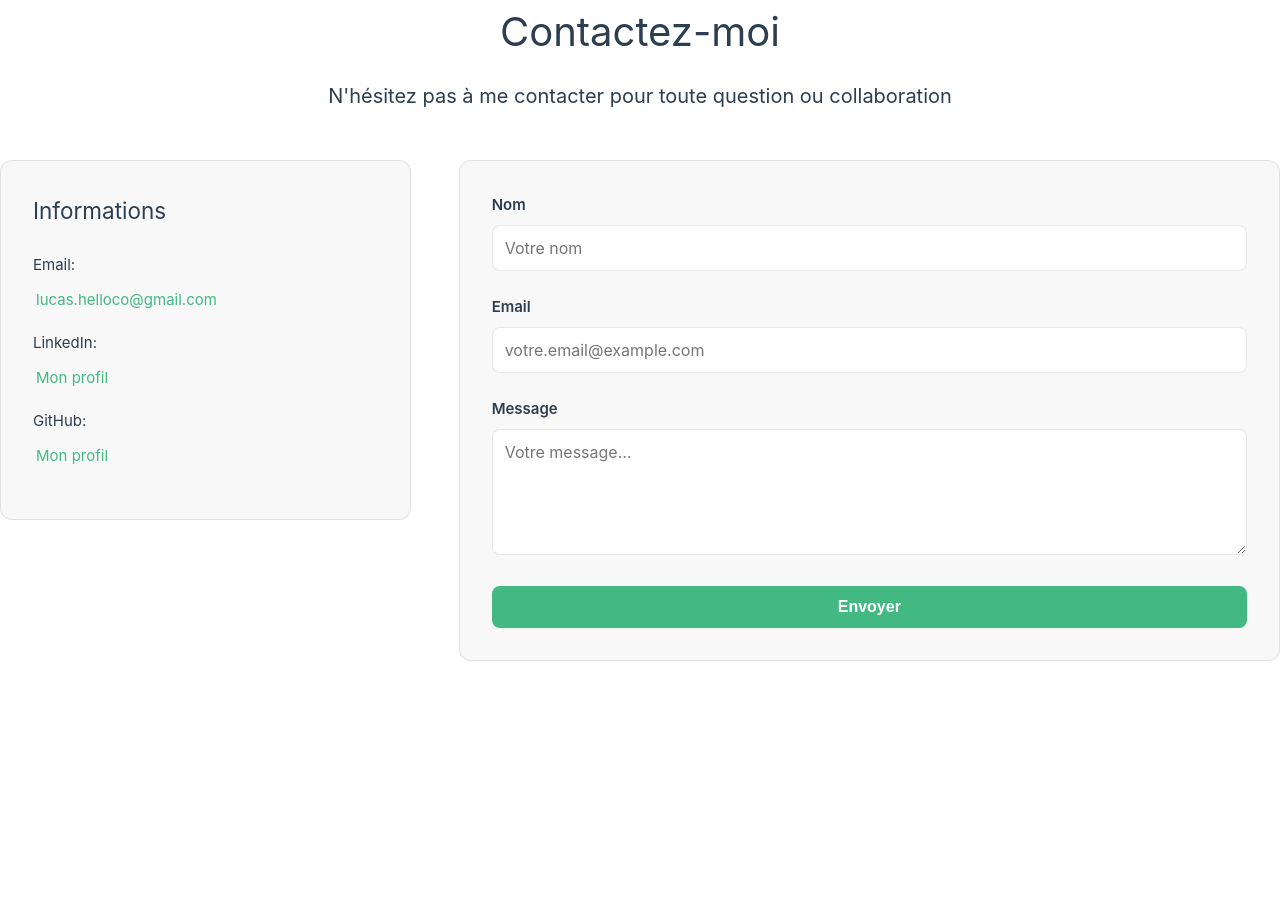
ContactView › validates email format
Type "invalid-email" into the field with id "email" at point(869, 350), box [492,327,1247,373]
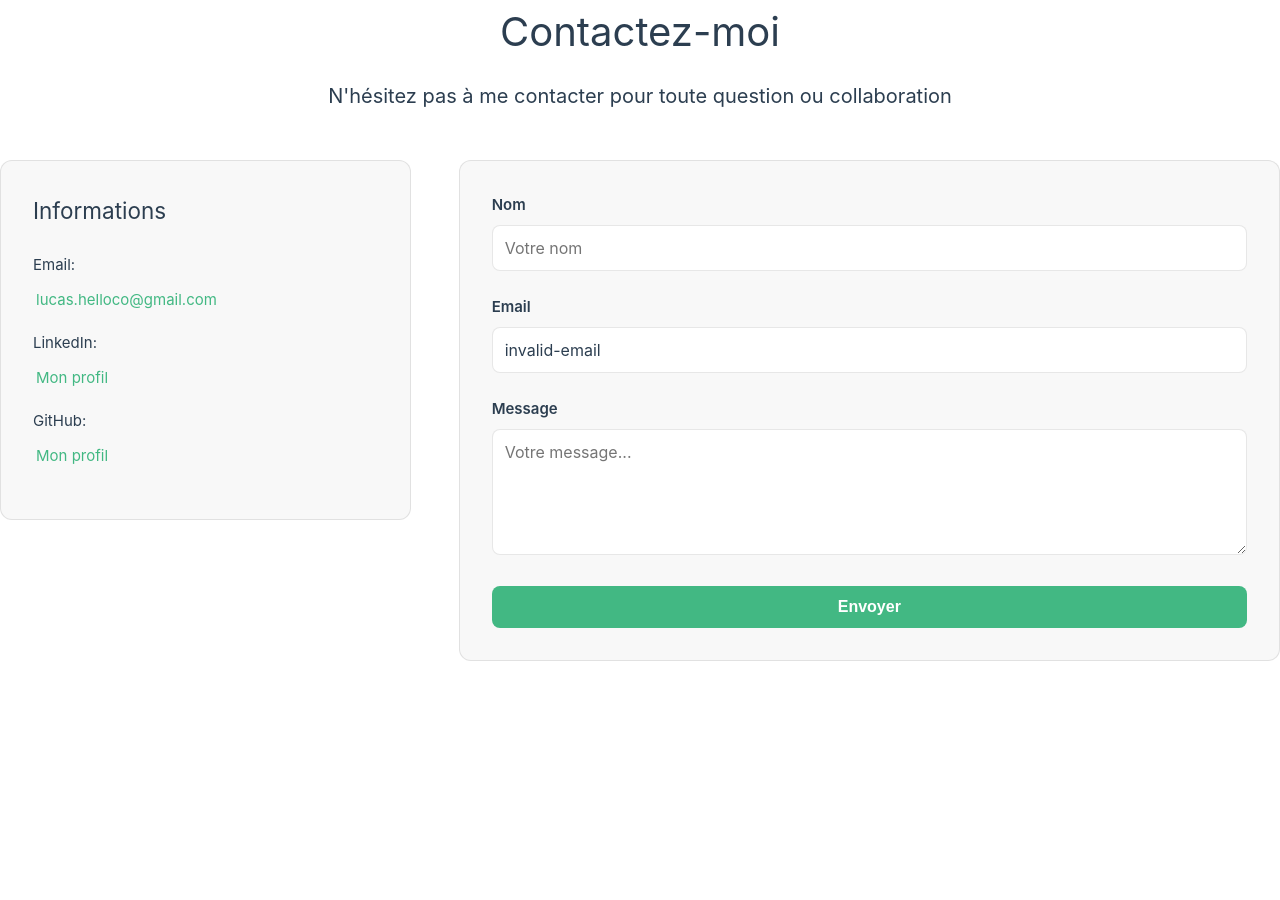
Submit the form, box [459,160,1279,661]
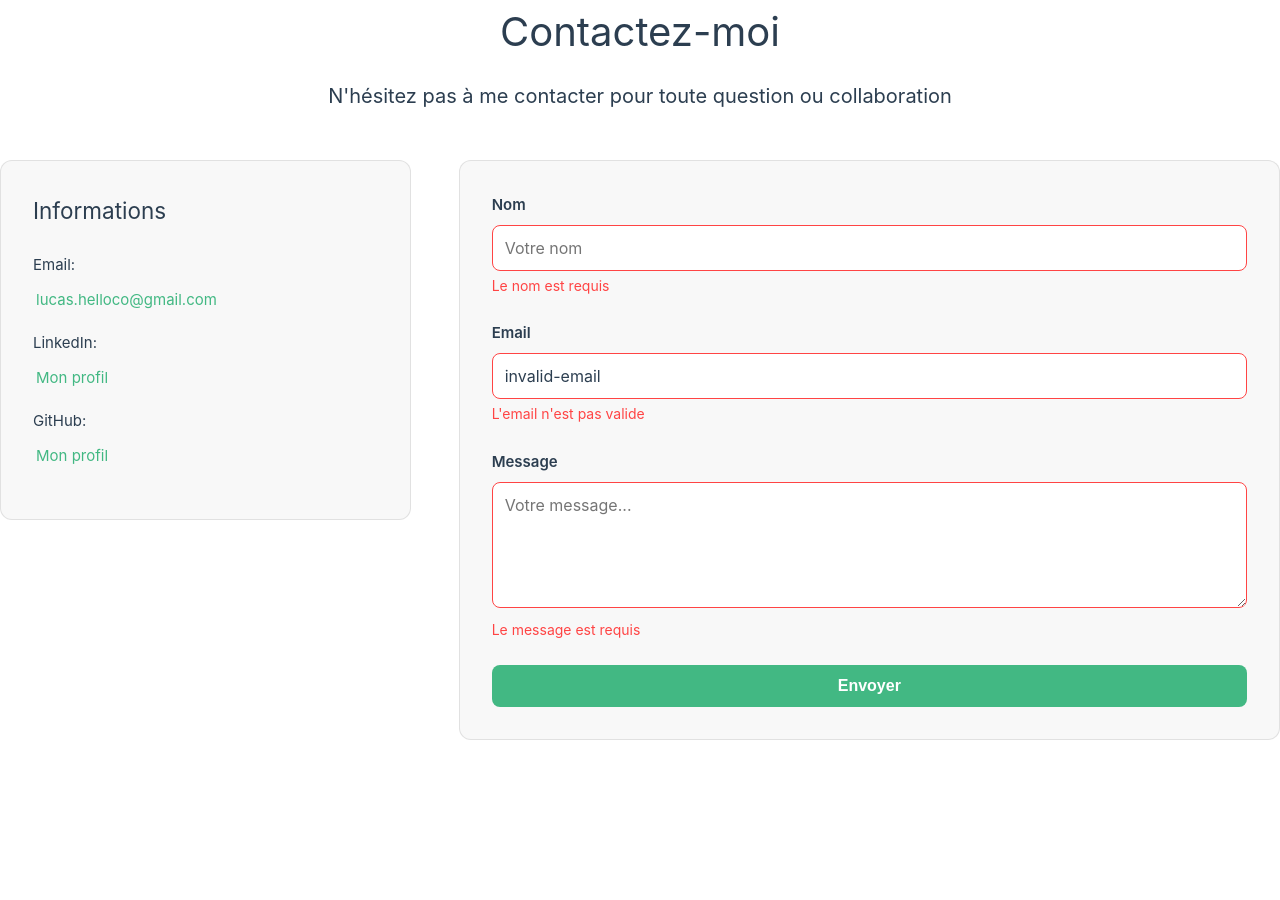
Now the text "L'email n'est pas valide" is shown, box [492,405,645,422]
